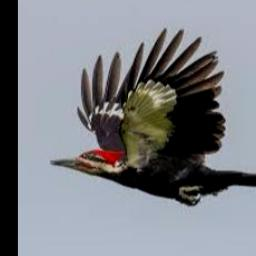Woodpecker: (48, 27, 256, 207)
